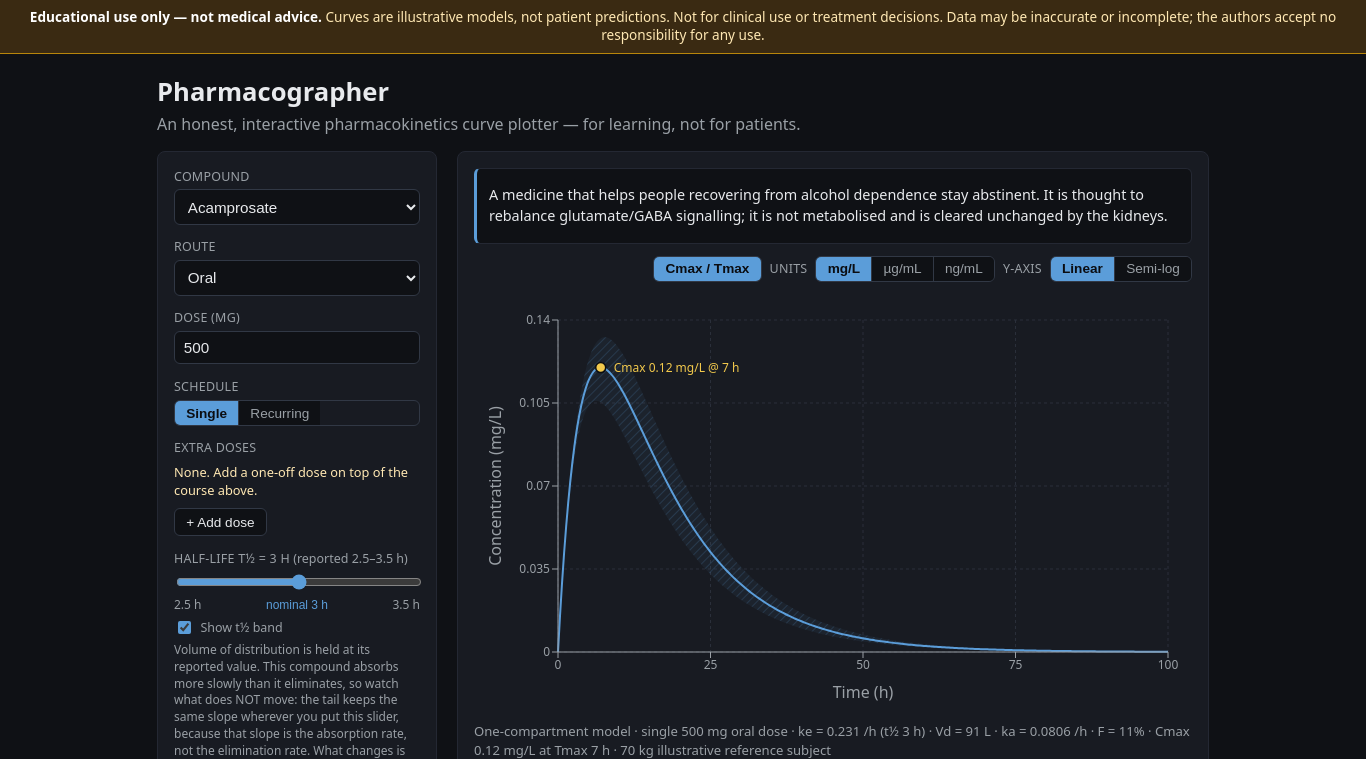
variability axes, wired through App › DOES tell an ordinary compound that the slider tilts its tail
Select "Ibuprofen" in the dropdown with class "control__input" showing "Compound". click: (297, 207)
box: [174,190,420,225]
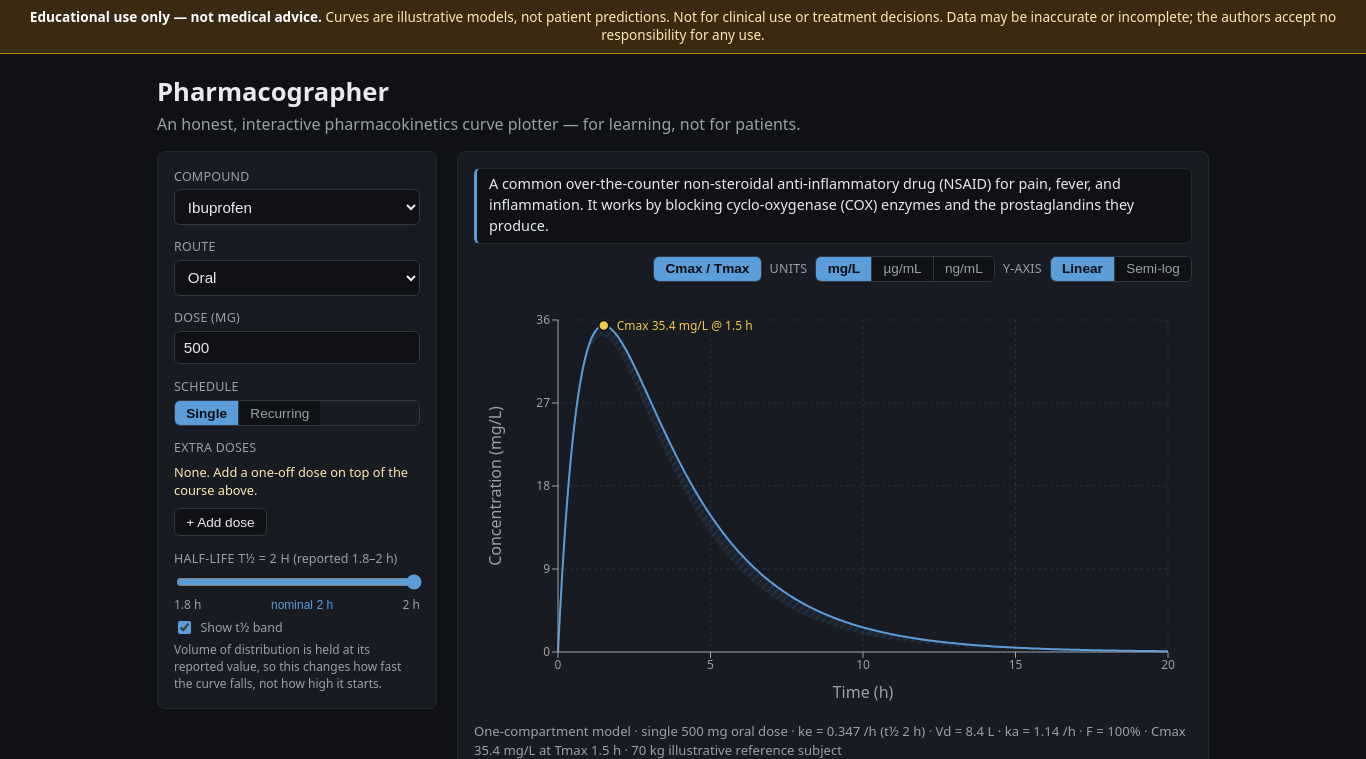
Now the element with class "controls" shows "changes how fast the curve falls", box [174,641,401,692]
